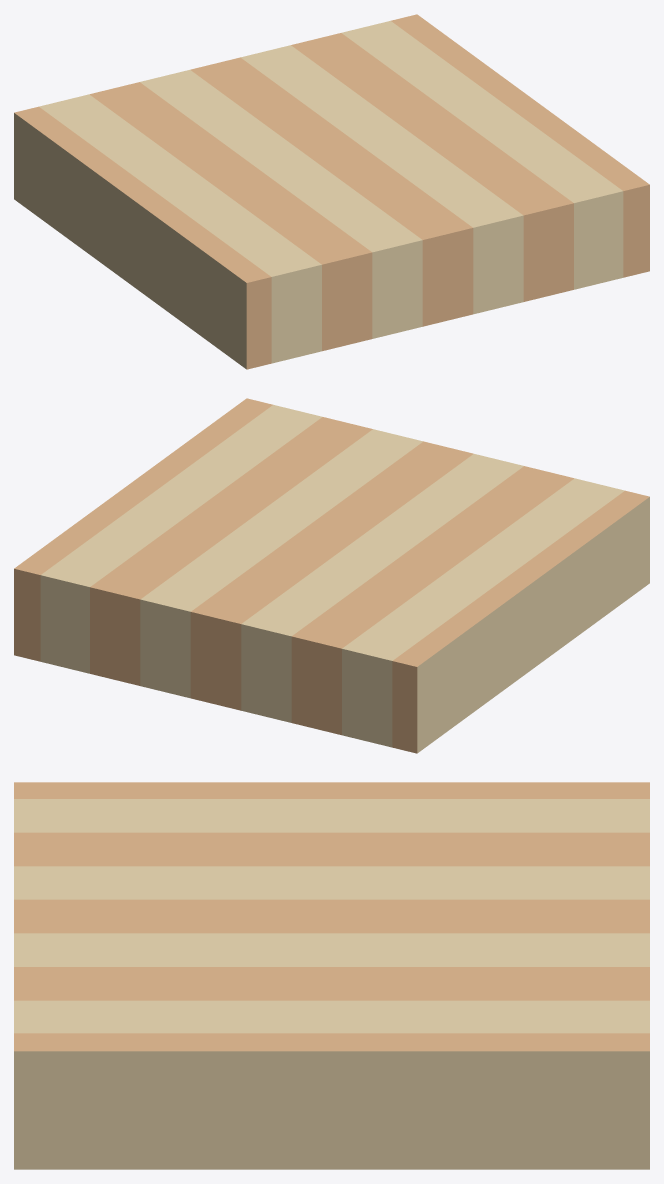
The model's file is ahsap_kup.fbx.
3 views of the same model, one above another, from view 1: azimuth 30°, elevation 25°; view 2: azimuth 150°, elevation 25°; view 3: azimuth 270°, elevation 25° (orthographic). The views are drawn at different scales.
Parts seen in each view (by area): view 1: Cube.041; view 2: Cube.041; view 3: Cube.041.
Part boxes in pixels (x1=…): Cube.041: x1=14, y1=14, x2=649, y2=369; Cube.041: x1=14, y1=398, x2=649, y2=753; Cube.041: x1=14, y1=782, x2=649, y2=1169.
Bounding box in the file's own units: 200 × 41.06 × 200.
